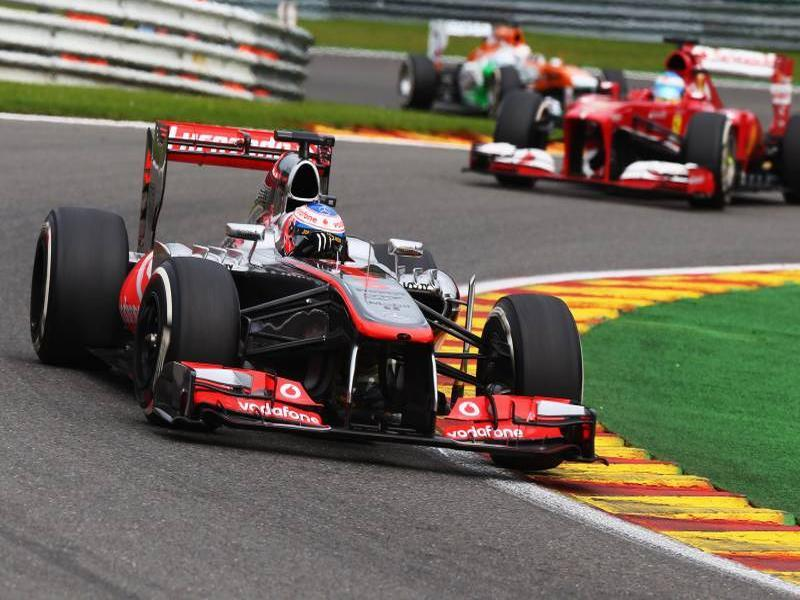racecar: (29, 99, 611, 480), (473, 80, 800, 203), (391, 10, 624, 102)
